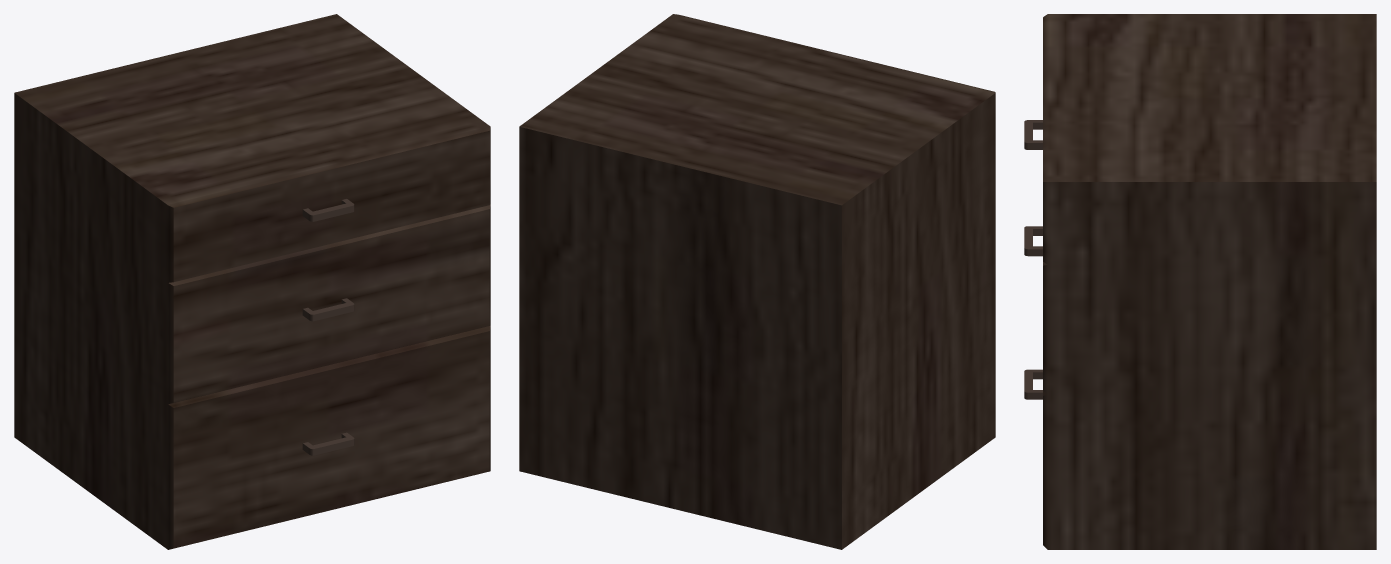
The model's file is nightstand.fbx.
3 views of the same model, side by side, from view 1: azimuth 30°, elevation 25°; view 2: azimuth 150°, elevation 25°; view 3: azimuth 270°, elevation 25° (orthographic). The views are drawn at different scales.
Parts seen in each view (by area): view 1: drawer, handle1, handle2, handle3; view 2: drawer; view 3: drawer, handle2, handle1, handle3.
Part boxes in pixels (box(x1,y1,x2,y2)): drawer: box(14, 14, 490, 549); handle1: box(302, 298, 354, 321); handle2: box(302, 432, 354, 455); handle3: box(302, 199, 354, 221); drawer: box(519, 14, 995, 549); drawer: box(1043, 14, 1376, 549); handle2: box(1024, 369, 1042, 399); handle1: box(1024, 226, 1042, 256); handle3: box(1024, 120, 1042, 149).
Size of the model in its own units: 65.91 by 67.25 by 58.36.
